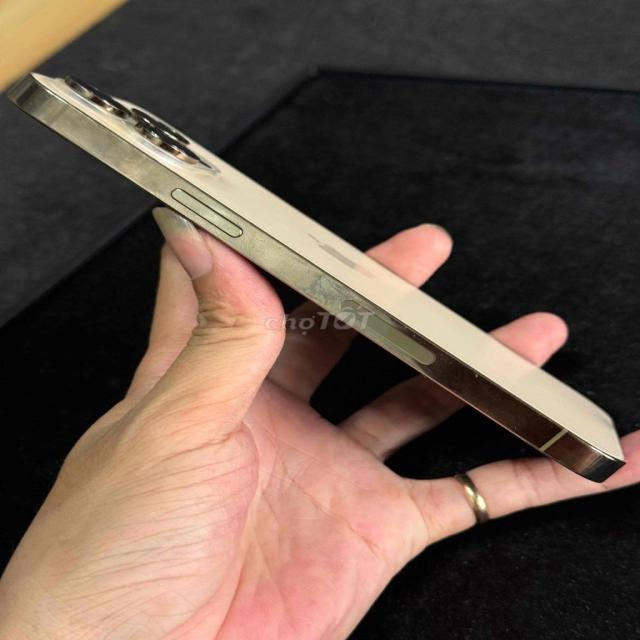scratch: (288, 265, 387, 328), (472, 366, 482, 384)
